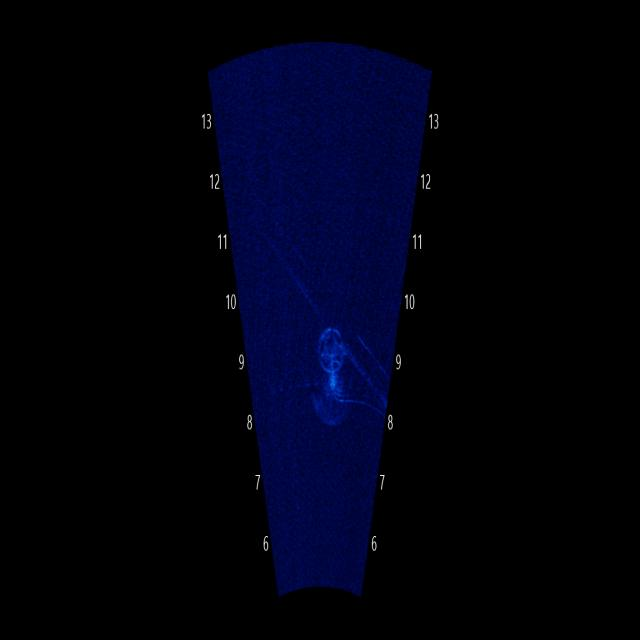circle: (308, 302, 356, 387)
